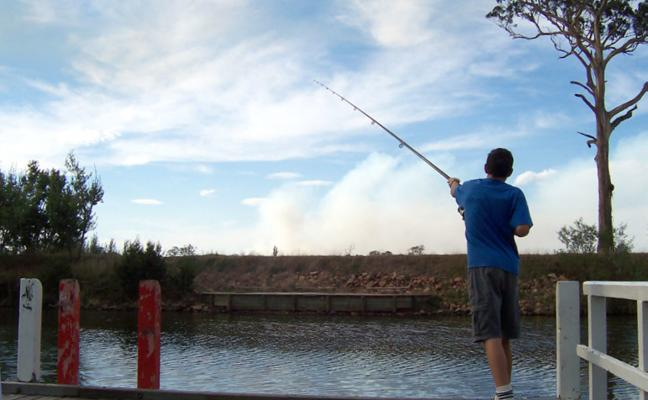person: (447, 149, 534, 400)
